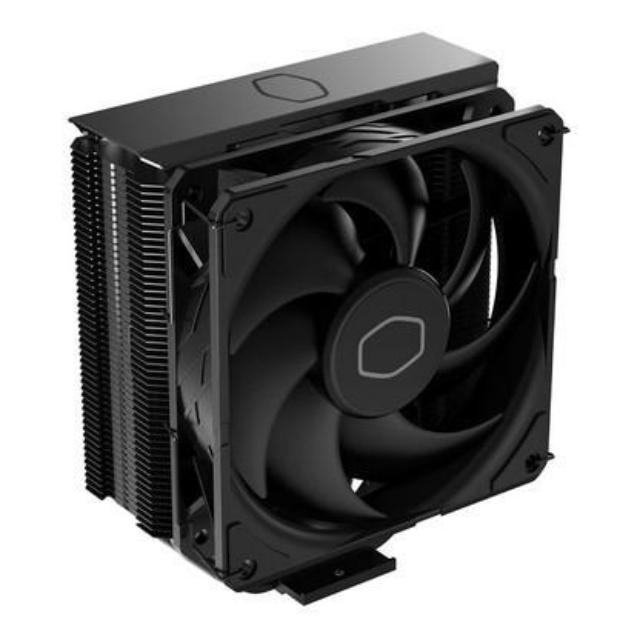CPU_Fan: (64, 32, 550, 606)
